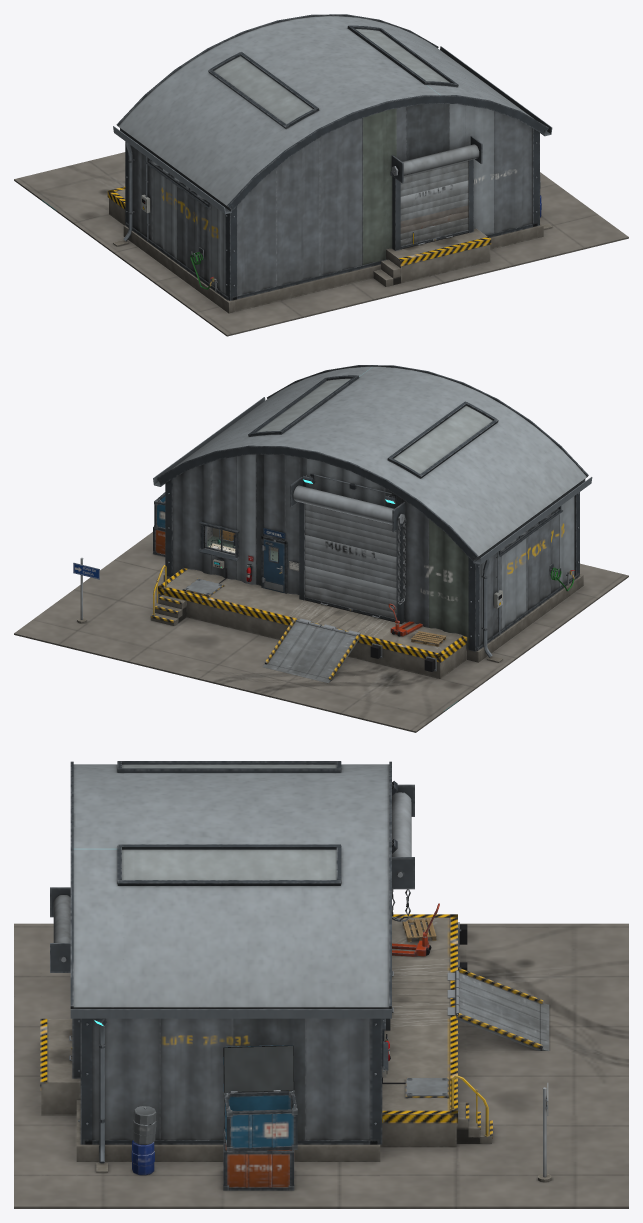
File: almacen.fbx
3 renders of one model, top to bottom at view 1: azimuth 30°, elevation 25°; view 2: azimuth 150°, elevation 25°; view 3: azimuth 270°, elevation 25°, orthographic. The views are drawn at different scales.
Parts seen in each view (by area): view 1: almacen, almacen_porton_trasero, almacen_cristal; view 2: almacen, almacen_porton, almacen_cristal, almacen_puerta; view 3: almacen, almacen_cristal.
Part boxes in pixels (x1=…): almacen: x1=14, y1=14, x2=628, y2=336; almacen_porton_trasero: x1=400, y1=160, x2=468, y2=249; almacen_cristal: x1=214, y1=29, x2=449, y2=124; almacen: x1=14, y1=365, x2=628, y2=732; almacen_porton: x1=304, y1=503, x2=396, y2=621; almacen_cristal: x1=205, y1=378, x2=492, y2=552; almacen_puerta: x1=262, y1=539, x2=284, y2=592; almacen: x1=14, y1=761, x2=628, y2=1208; almacen_cristal: x1=122, y1=764, x2=336, y2=879.
Bounding box in the file's own units: 17.1 × 7.17 × 15.7.
Materials: 6 (6 with a texture image).
